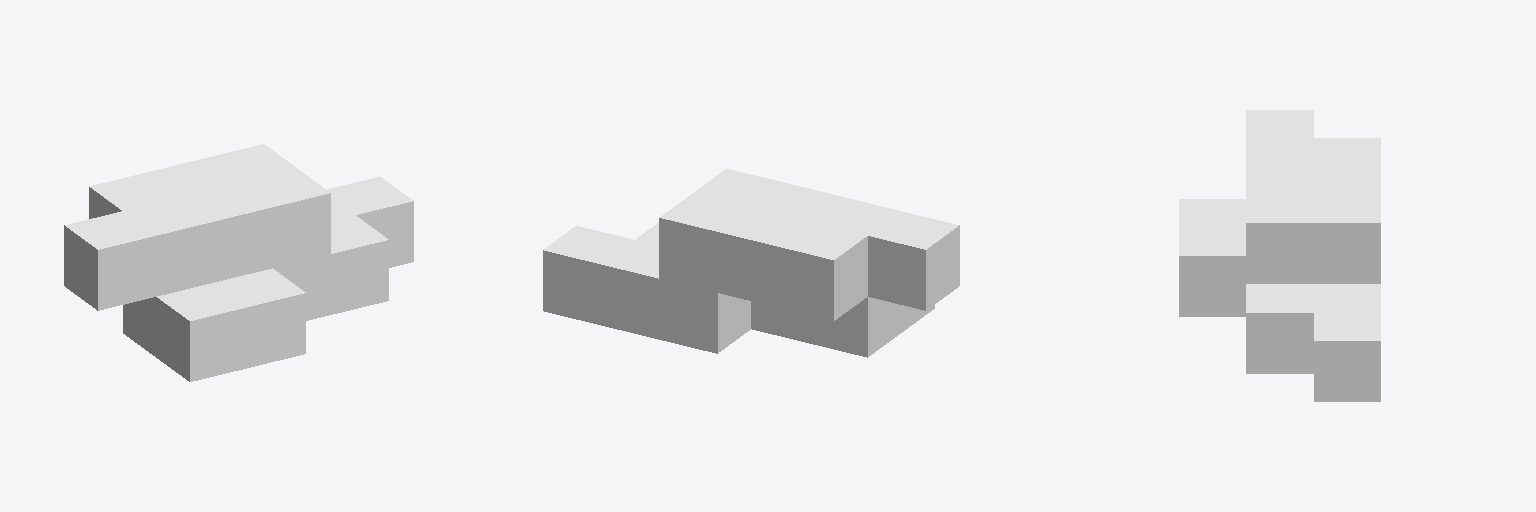
The model's file is Enemy1-13.obj.
3 renders of one model, left to right at view 1: azimuth 30°, elevation 25°; view 2: azimuth 150°, elevation 25°; view 3: azimuth 270°, elevation 25°, orthographic.
Visible parts, largest first — view 1: object 1; view 2: object 1; view 3: object 1.
Part boxes in pixels (x1,y1,x2,y2): object 1: (64, 144, 413, 381); object 1: (543, 169, 959, 357); object 1: (1179, 110, 1380, 401).
Bounding box in the file's own units: 0.6 × 0.2 × 0.3.